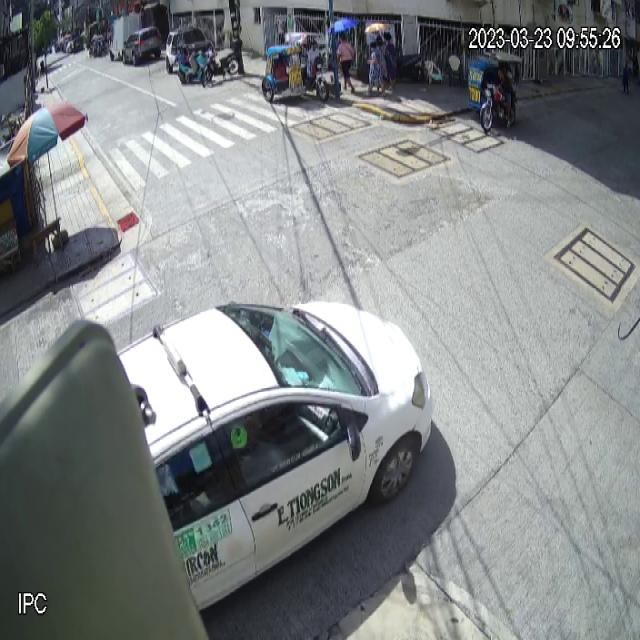Car: (76, 299, 434, 610)
Tricycle: (261, 31, 329, 103)
